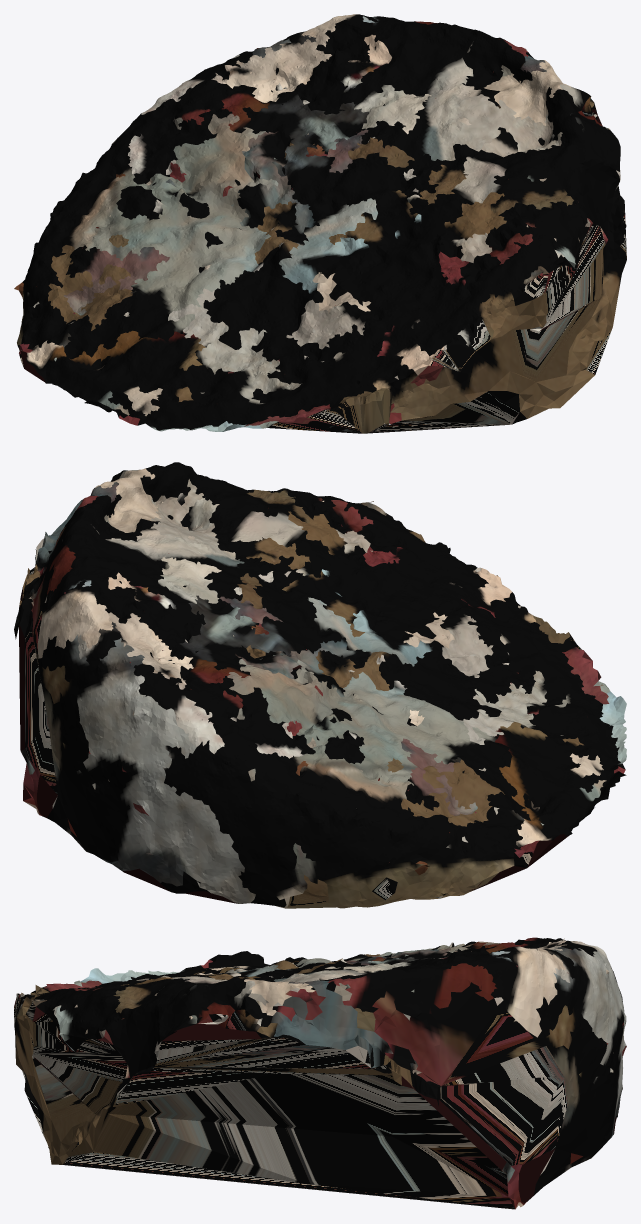
The model's file is lemon slice.fbx.
The picture shows the model from 3 angles, top to bottom: view 1: azimuth 30°, elevation 25°; view 2: azimuth 150°, elevation 25°; view 3: azimuth 270°, elevation 25°; orthographic projection. The views are drawn at different scales.
Parts seen in each view (by area): view 1: texturedMesh; view 2: texturedMesh; view 3: texturedMesh.
Part boxes in pixels (x1,y1,x2,y2): texturedMesh: (14, 14, 626, 433); texturedMesh: (14, 462, 626, 908); texturedMesh: (14, 937, 626, 1209).
Size of the model in its own units: 126 by 56.69 by 126.
